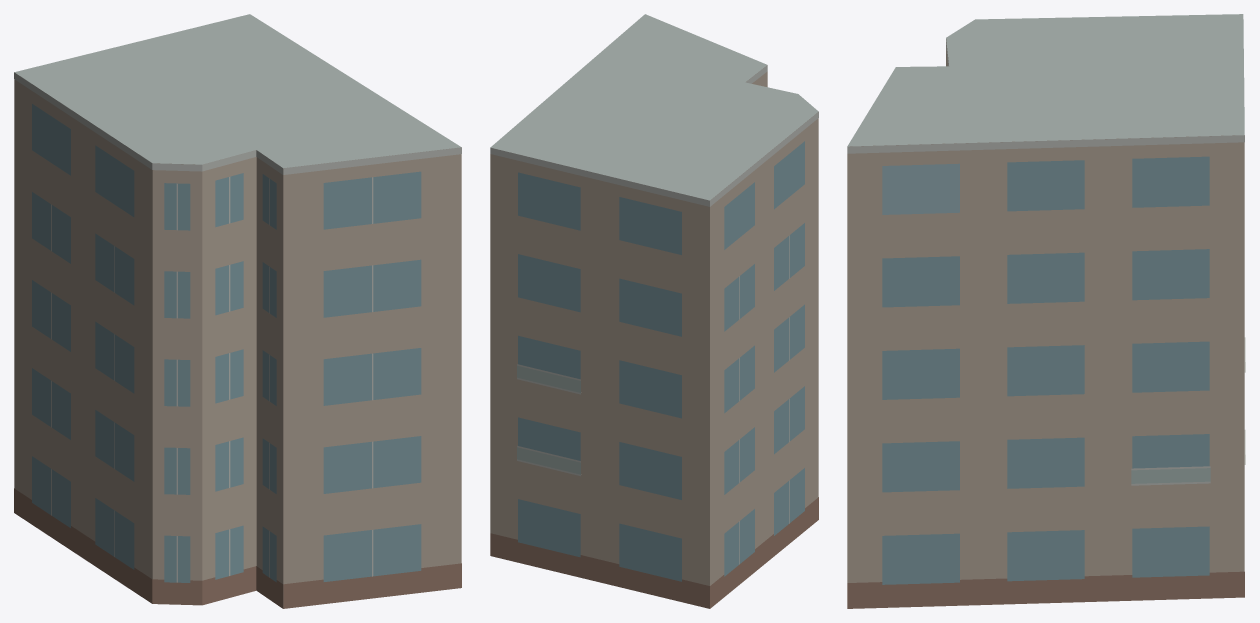
Rendered from survey-upis-32647029.glb.
3 renders of one model, left to right at view 1: azimuth 30°, elevation 25°; view 2: azimuth 150°, elevation 25°; view 3: azimuth 270°, elevation 25°, orthographic. The views are drawn at different scales.
Visible parts, largest first — view 1: survey-upis-32647029.tmp; view 2: survey-upis-32647029.tmp; view 3: survey-upis-32647029.tmp.
Boxes of the visible parts, left/top/right/bottom form: survey-upis-32647029.tmp: left=14, top=14, right=461, bottom=608; survey-upis-32647029.tmp: left=490, top=14, right=818, bottom=608; survey-upis-32647029.tmp: left=847, top=14, right=1245, bottom=608.
Bounding box in the file's own units: 9.63 × 15.65 × 12.24.
